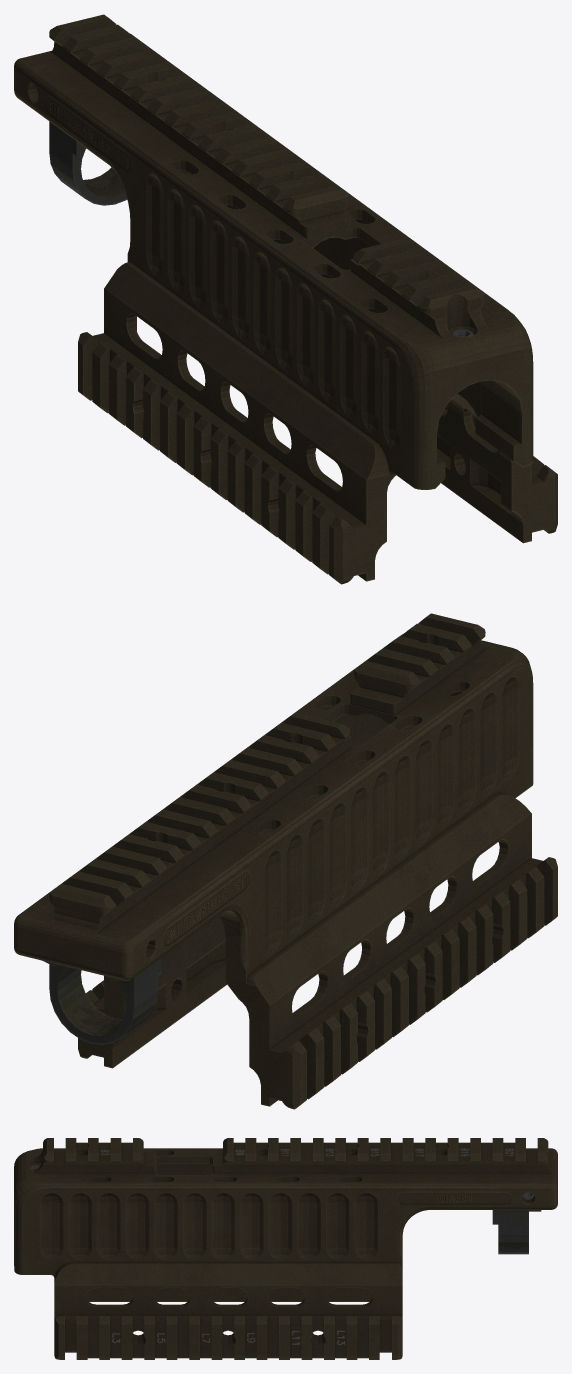
3 views of the same model, one above another, from view 1: azimuth 30°, elevation 25°; view 2: azimuth 150°, elevation 25°; view 3: azimuth 270°, elevation 25° (orthographic). The views are drawn at different scales.
Visible parts, largest first — view 1: TW_661fbe066751ee51930b01f2_PZ_Import; view 2: TW_661fbe066751ee51930b01f2_PZ_Import; view 3: TW_661fbe066751ee51930b01f2_PZ_Import.
Part boxes in pixels (box(x1,y1,x2,y2)): TW_661fbe066751ee51930b01f2_PZ_Import: box(14, 14, 557, 584); TW_661fbe066751ee51930b01f2_PZ_Import: box(14, 613, 557, 1109); TW_661fbe066751ee51930b01f2_PZ_Import: box(14, 1138, 557, 1359).
Size of the model in its own units: 0.0442 by 0.14 by 0.0511.
1 material, 1 textured.
